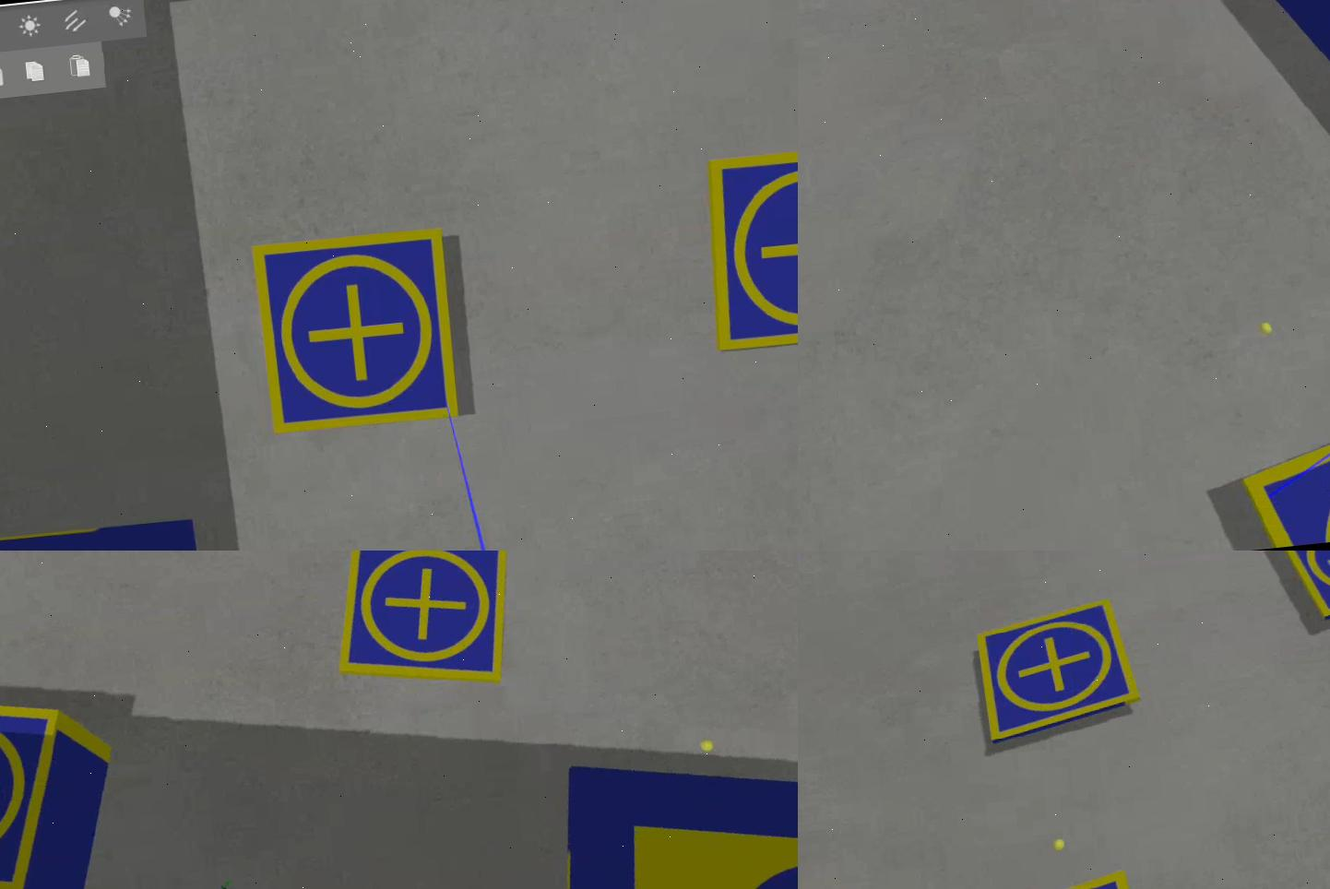small_base: (252, 225, 466, 442), (325, 551, 528, 707), (976, 598, 1145, 746), (701, 142, 799, 358), (1, 677, 84, 889), (1234, 377, 1330, 551)
